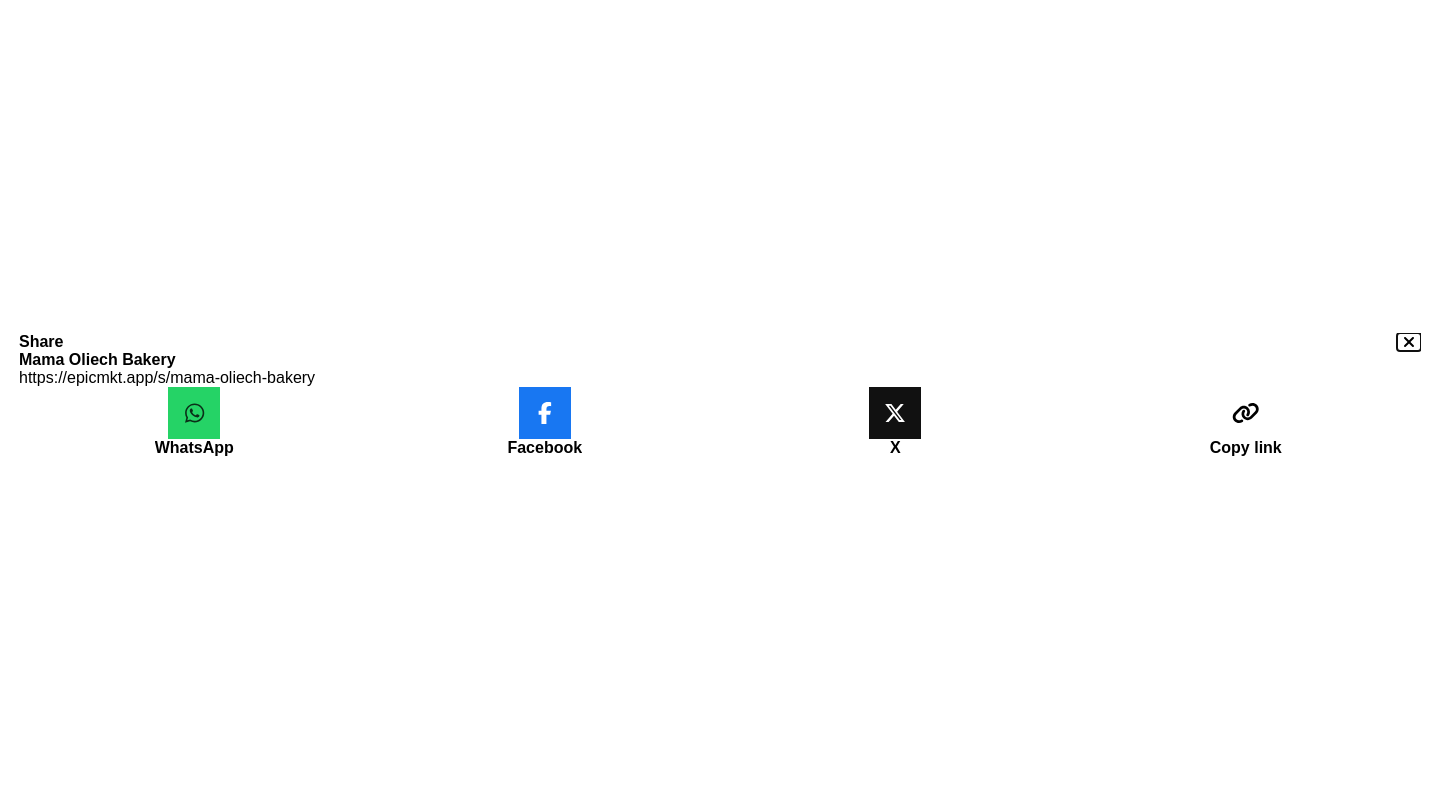
Test: ShareSheet › copies the link and says so
Click the button "Copy link" at [1246, 422], box [1070,387,1421,457]
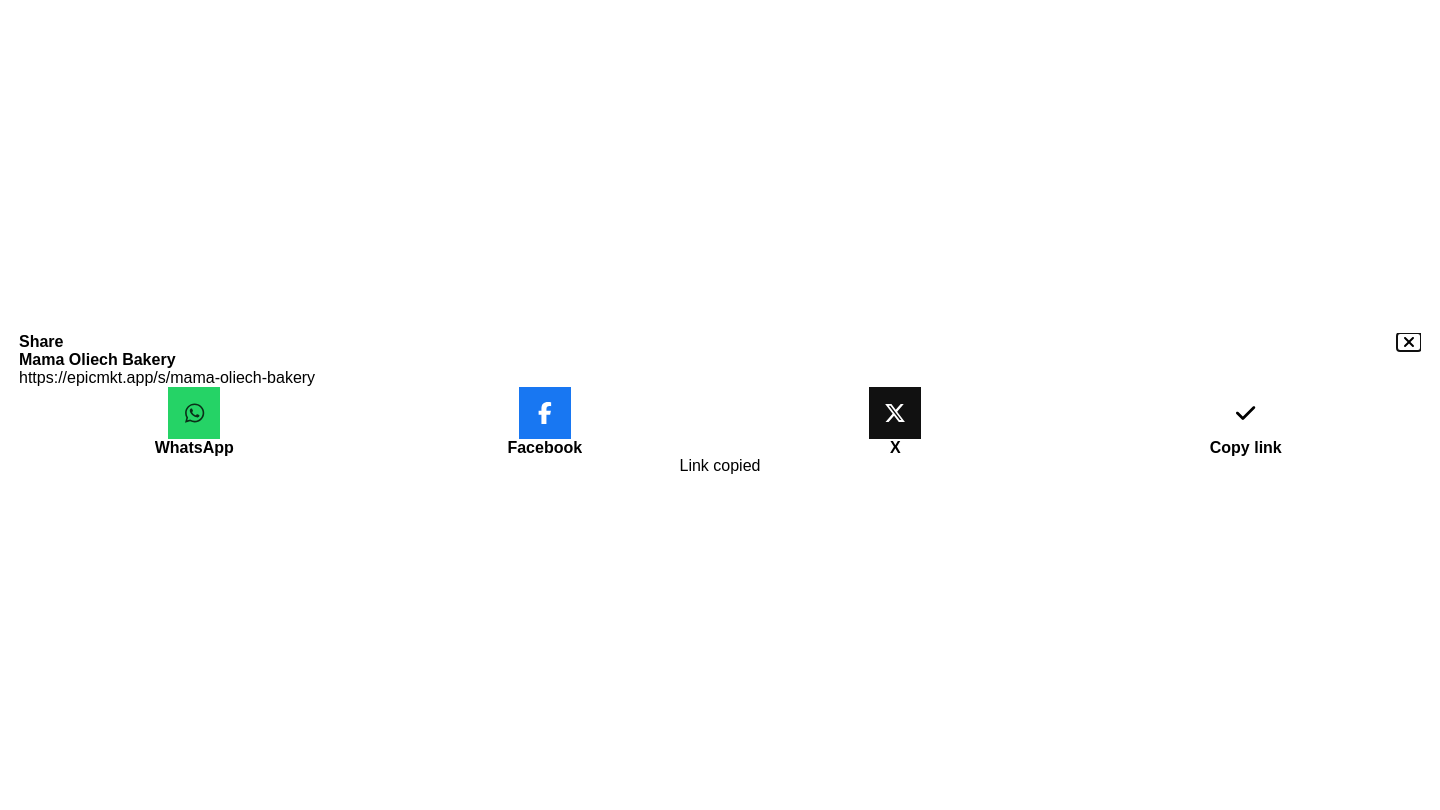
Expected: the message reads "Link copied", [680,457,760,474]
